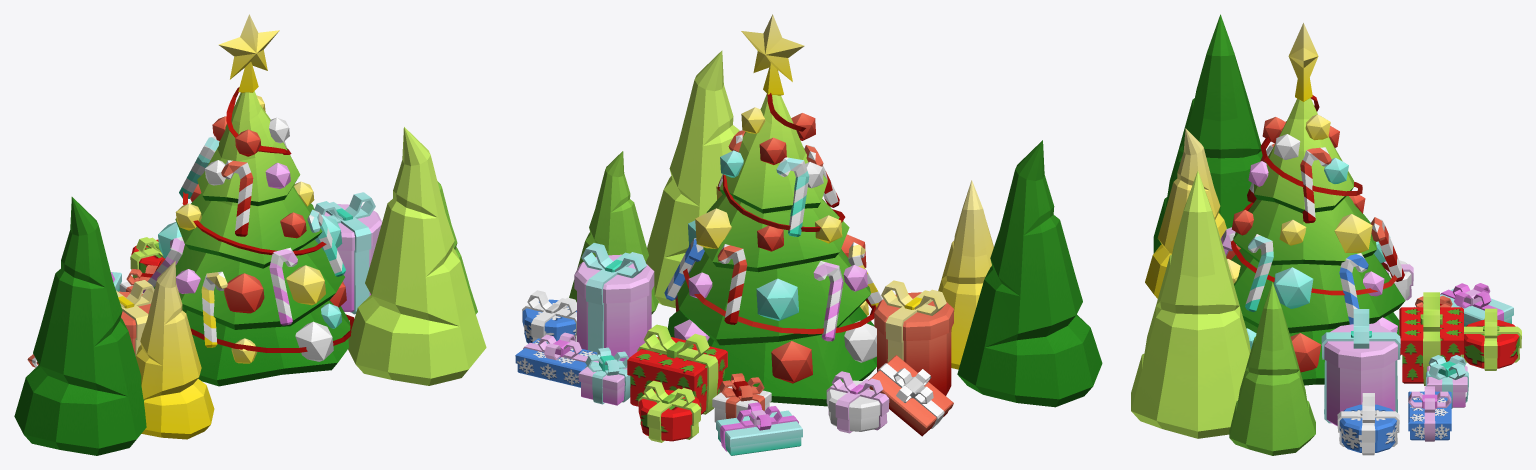
The model's file is Xmas.glb.
The picture shows the model from 3 angles, left to right: view 1: azimuth 30°, elevation 25°; view 2: azimuth 150°, elevation 25°; view 3: azimuth 270°, elevation 25°; orthographic projection. The views are drawn at different scales.
Parts seen in each view (by area): view 1: Christmas_Tree_V1_03__1_, Christmas_Tree_V2_02__1_, Christmas_Tree_V2_00__1_, Christmas_Tree_V2_03__1_, Present_Box_Color_06__1_, Present_Box_Color_12__1_, Christmas_Ball_10__3_, Christmas_Candy_04__2_, Christmas_Candy_00__2_, Christmas_Ball_09__2_, Christmas_Ball_06__2_, Christmas_Candy_03__1_ (+9 smaller); view 2: Christmas_Tree_V1_03__1_, Christmas_Tree_V2_00__1_, Christmas_Tree_V2_02__1_, Present_Box_Color_06__1_, Present_Box_Color_12__1_, Present_Box_Pattern_06__1_, Christmas_Tree_V2_03__1_, Christmas_Tree_V2_01__1_, Present_Box_Color_26__1_, Present_Box_Color_02__1_, Present_Box_Pattern_09__1_, Present_Box_Color_14__1_ (+17 smaller); view 3: Christmas_Tree_V2_02__1_, Christmas_Tree_V1_03__1_, Christmas_Tree_V2_00__1_, Christmas_Tree_V2_01__1_, Present_Box_Color_06__1_, Present_Box_Pattern_06__1_, Christmas_Tree_V2_03__1_, Present_Box_Pattern_03__1_, Present_Box_Pattern_09__1_, Present_Box_Pattern_02__1_, Present_Box_Color_11__1_, Present_Box_Color_02__1_ (+15 smaller).
Part boxes in pixels (x1,y1,x2,y2): Christmas_Tree_V1_03__1_: (154,14,354,386); Christmas_Tree_V2_02__1_: (348,127,486,385); Christmas_Tree_V2_00__1_: (14,197,146,455); Christmas_Tree_V2_03__1_: (136,261,214,439); Present_Box_Color_06__1_: (314,192,382,314); Present_Box_Color_12__1_: (116,280,154,356); Christmas_Ball_10__3_: (224,273,264,313); Christmas_Candy_04__2_: (221,160,253,236); Christmas_Candy_00__2_: (269,247,297,325); Christmas_Ball_09__2_: (286,265,325,305); Christmas_Ball_06__2_: (295,321,333,361); Christmas_Candy_03__1_: (201,271,227,347); Christmas_Tree_V1_03__1_: (667,14,876,406); Christmas_Tree_V2_00__1_: (957,140,1102,407); Christmas_Tree_V2_02__1_: (645,50,739,308); Present_Box_Color_06__1_: (574,243,654,361); Present_Box_Color_12__1_: (874,280,953,395); Present_Box_Pattern_06__1_: (627,324,727,414); Christmas_Tree_V2_03__1_: (938,180,993,369); Christmas_Tree_V2_01__1_: (569,151,658,314); Present_Box_Color_26__1_: (868,355,953,436); Present_Box_Color_02__1_: (716,402,802,455); Present_Box_Pattern_09__1_: (638,380,700,442); Present_Box_Color_14__1_: (826,371,889,433); Christmas_Tree_V2_02__1_: (1131,170,1250,438); Christmas_Tree_V1_03__1_: (1230,23,1405,385); Christmas_Tree_V2_00__1_: (1153,14,1262,253); Christmas_Tree_V2_01__1_: (1229,282,1315,455); Present_Box_Color_06__1_: (1321,309,1400,426); Present_Box_Pattern_06__1_: (1399,292,1463,385); Christmas_Tree_V2_03__1_: (1145,128,1226,298); Present_Box_Pattern_03__1_: (1337,393,1399,455); Present_Box_Pattern_09__1_: (1461,308,1521,370); Present_Box_Pattern_02__1_: (1408,386,1451,441); Present_Box_Color_11__1_: (1425,355,1468,408); Present_Box_Color_02__1_: (1440,283,1513,326).
Bounding box in the file's own units: 5.26 × 3.6 × 3.76.
1 material, 1 textured.
